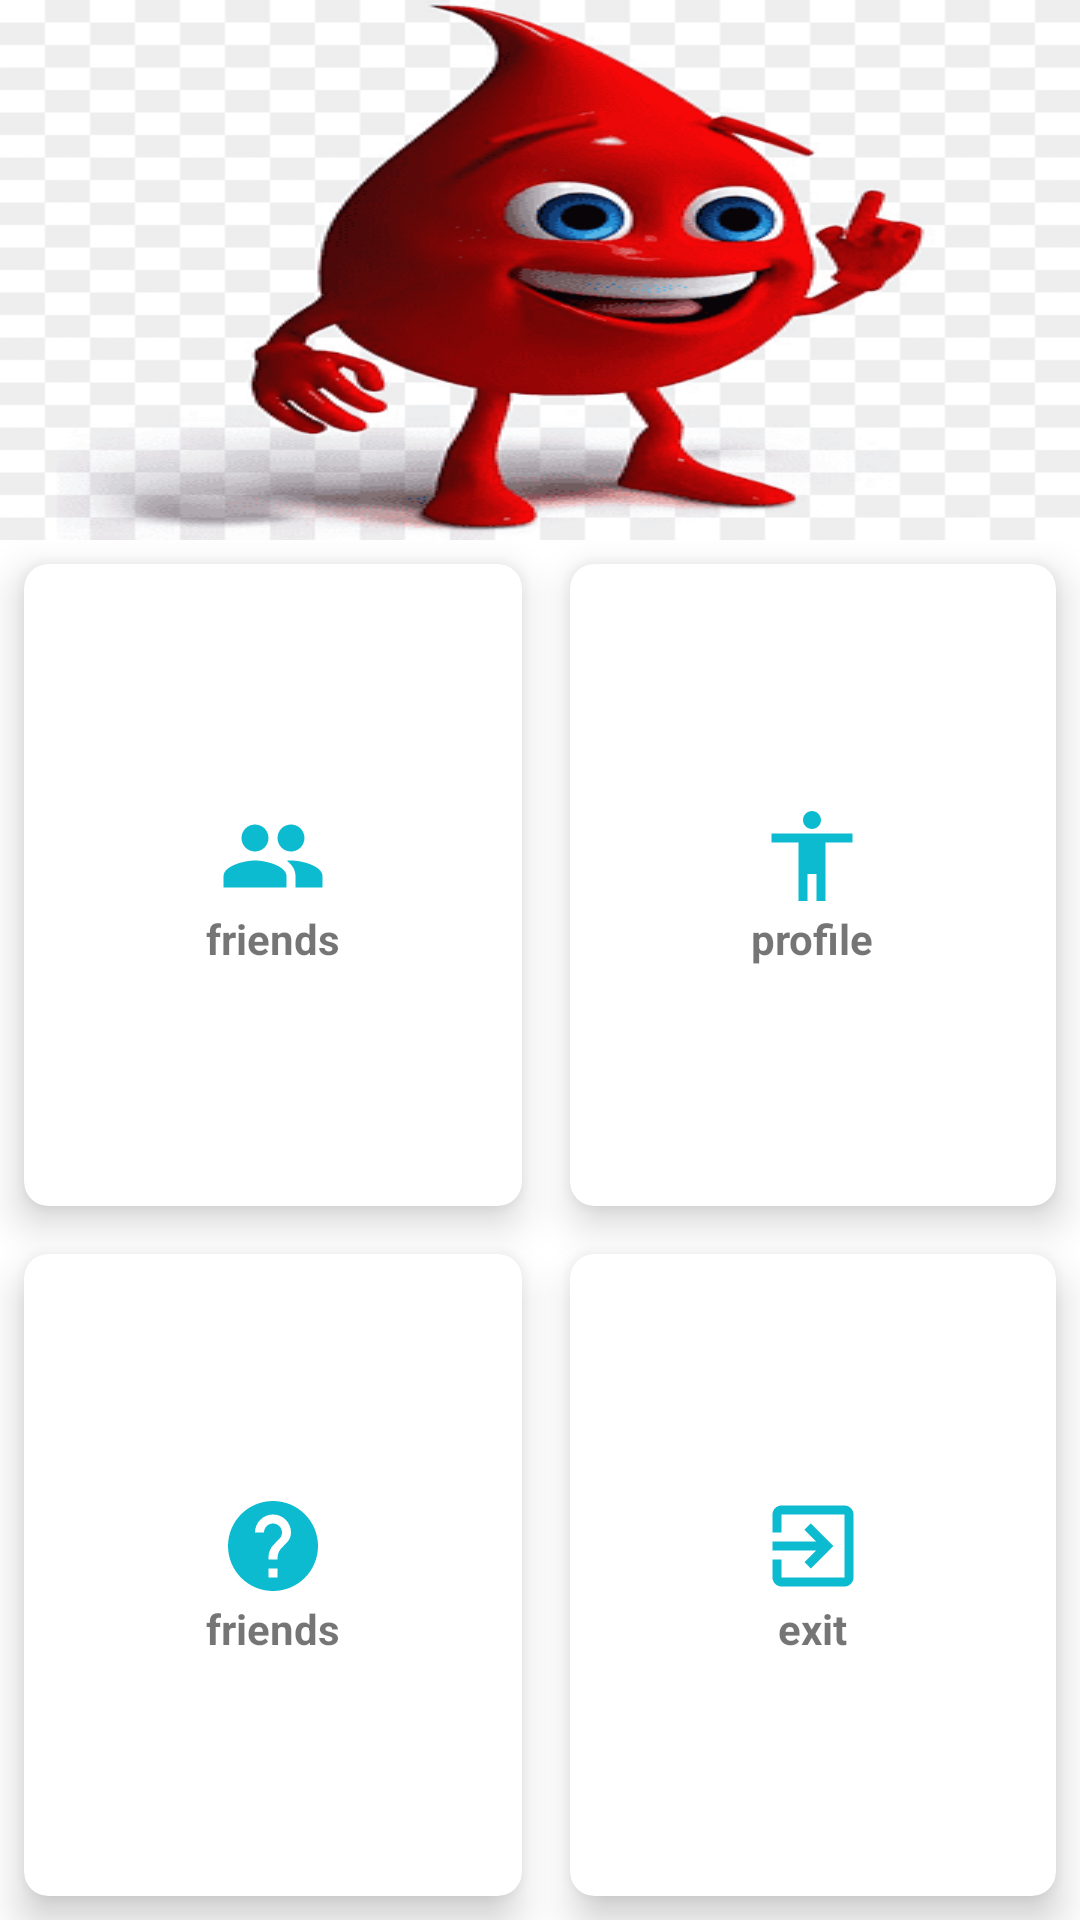

Icon bounding boxes for this 1080x1920 phone screenshot, format (x1, y1, x2, y2):
help: (228, 1501, 318, 1591)
